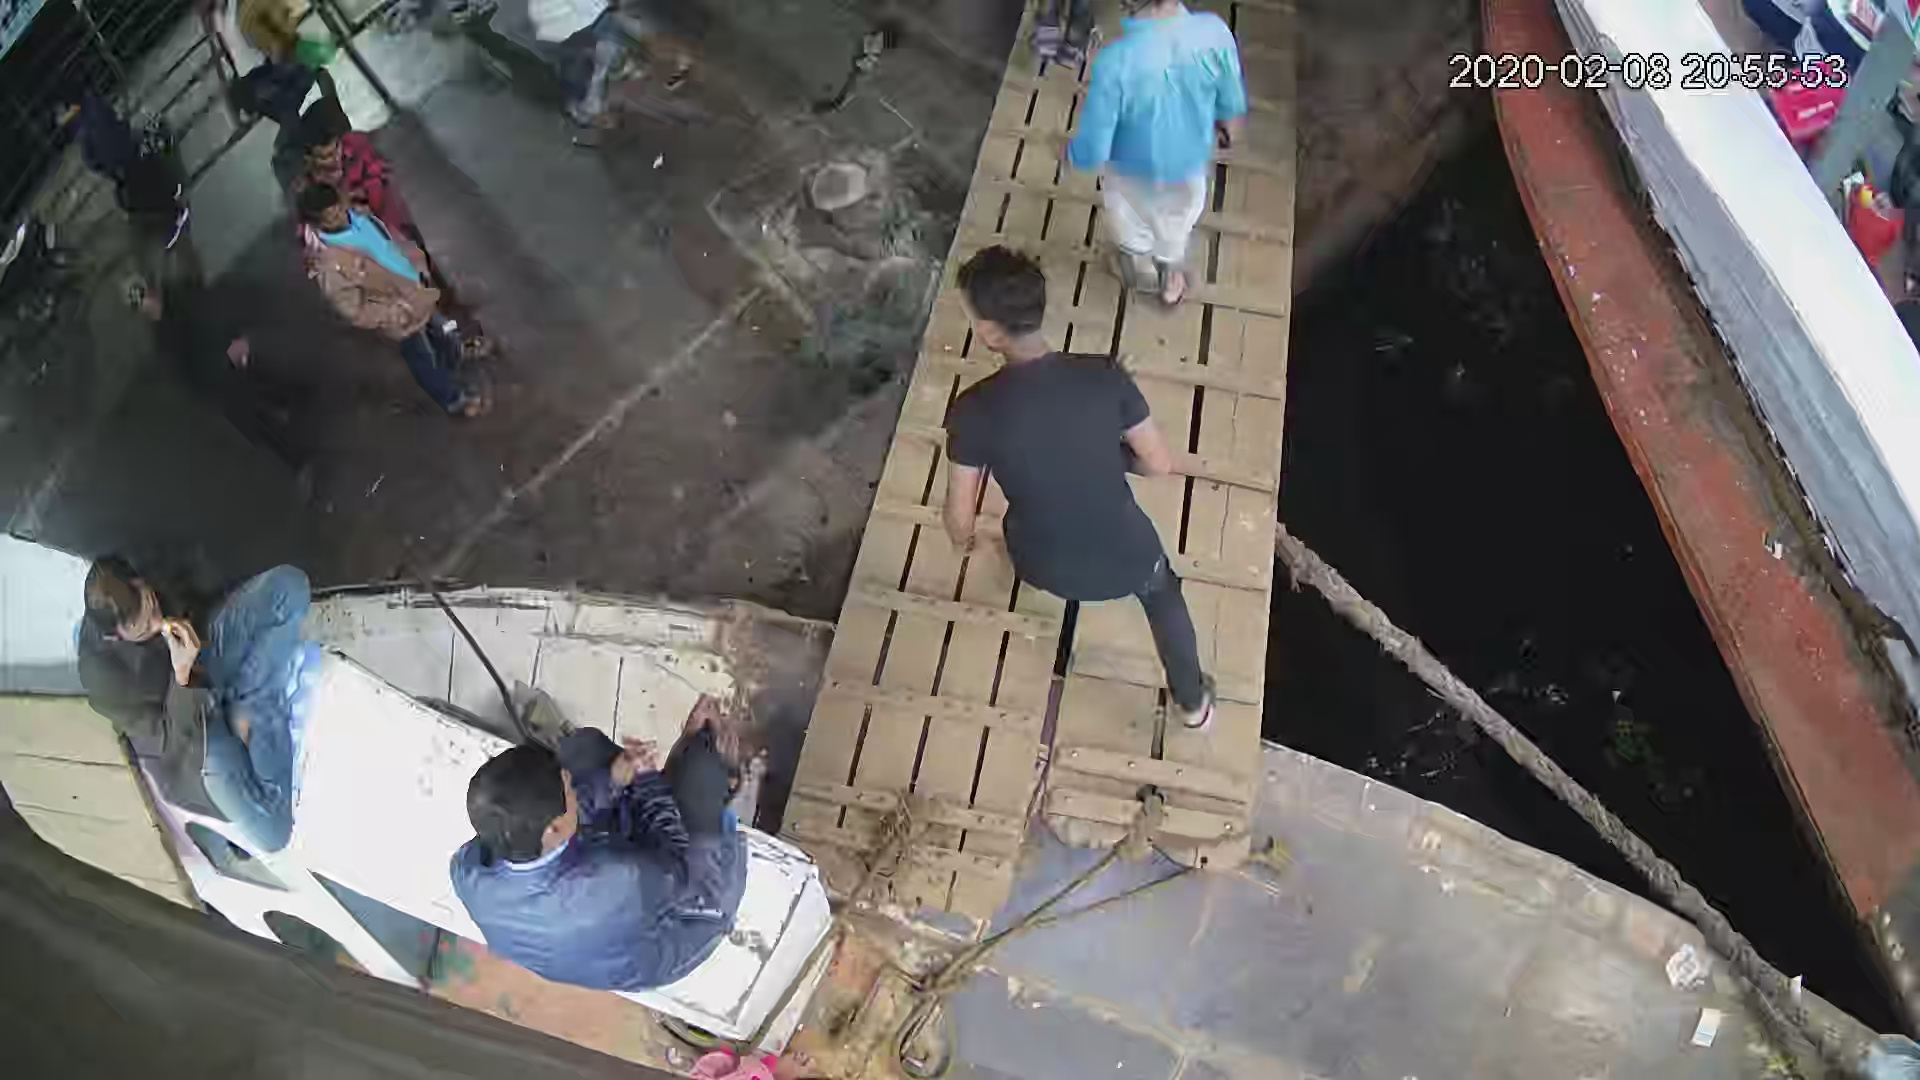person: (935, 238, 1229, 737), (445, 691, 757, 992), (72, 542, 323, 855), (1052, 1, 1242, 318), (291, 180, 502, 422), (44, 84, 198, 249)
